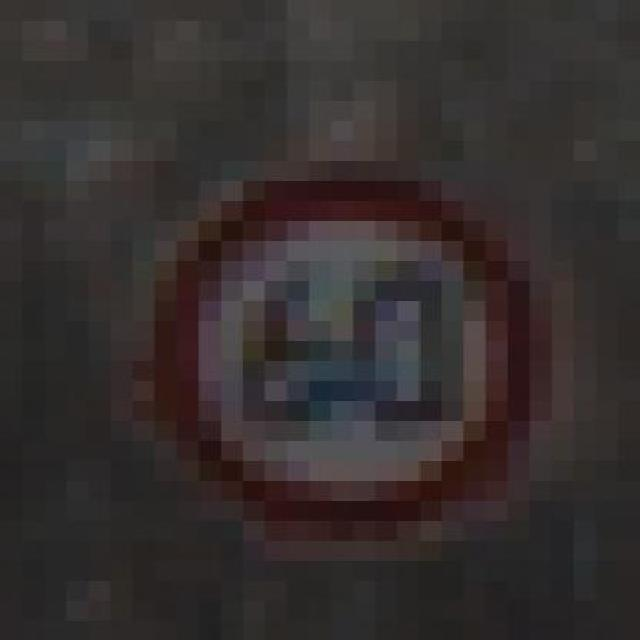forb_speed_over_60: (157, 175, 541, 536)
